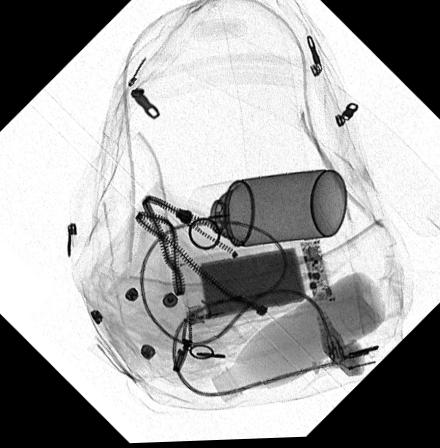Lighter: (178, 260, 205, 327)
Powerbank: (180, 240, 335, 333)
Sprayer: (182, 170, 348, 254)
